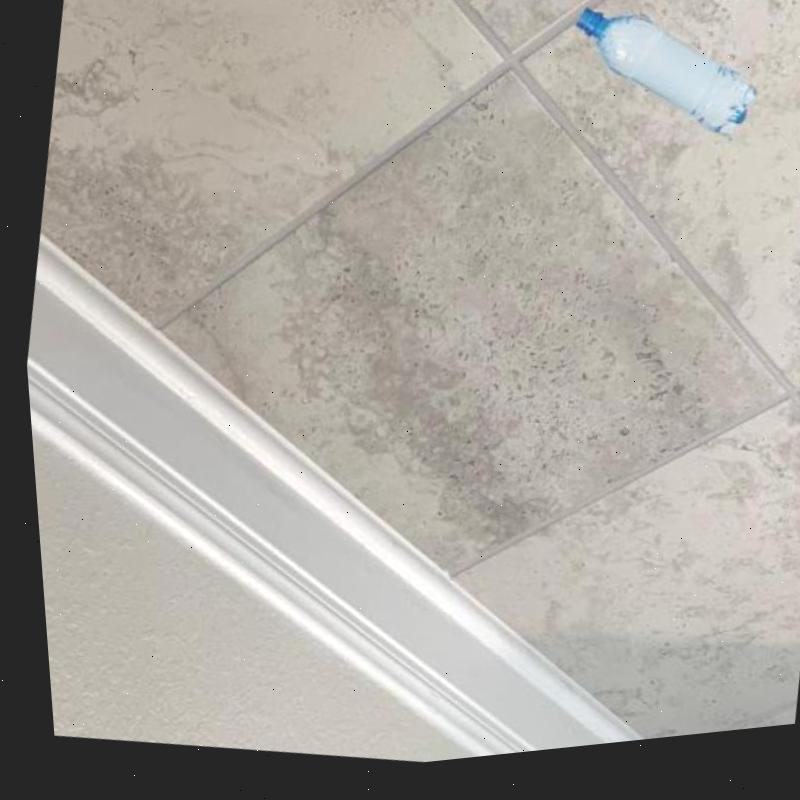botella: (555, 6, 767, 167)
